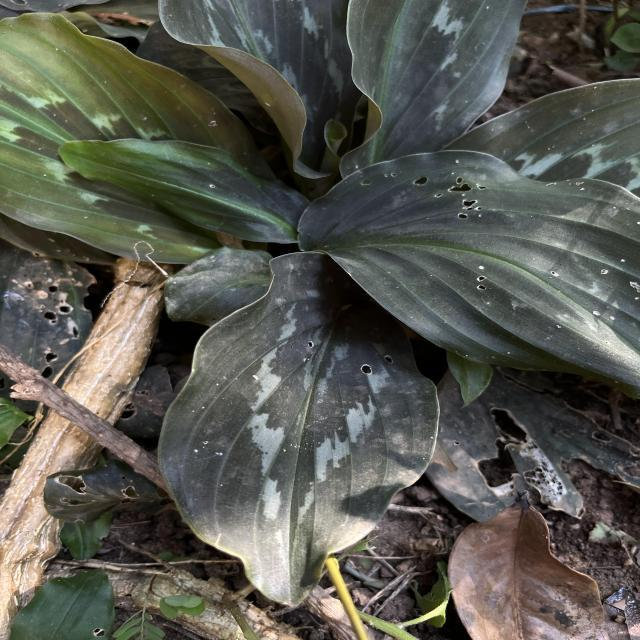Kaempferia galanga linn: (154, 246, 446, 611), (292, 146, 640, 403), (55, 136, 314, 247)
